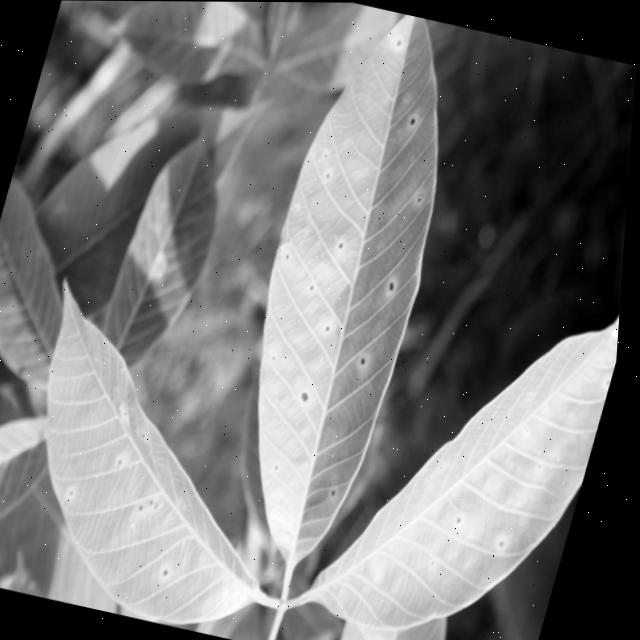Colletotrichum: (305, 392, 315, 401), (391, 282, 398, 291)
